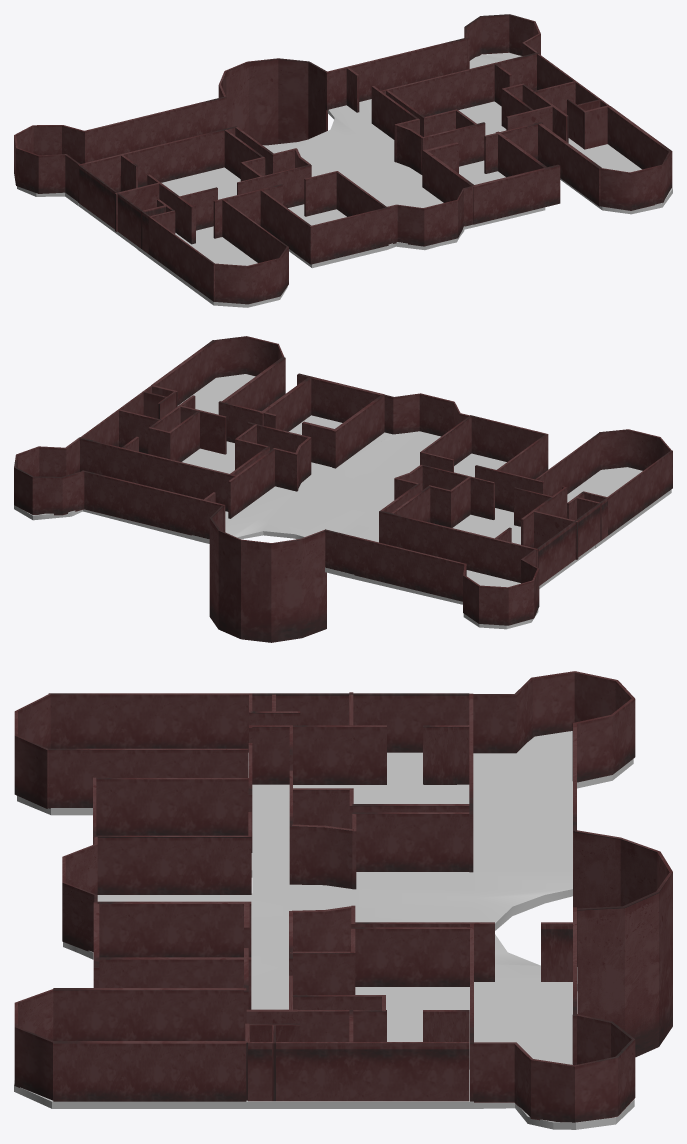
Rendered from Mansion_Floor_2ND_V2.fbx.
The picture shows the model from 3 angles, top to bottom: view 1: azimuth 30°, elevation 25°; view 2: azimuth 150°, elevation 25°; view 3: azimuth 270°, elevation 25°; orthographic projection. The views are drawn at different scales.
Visible parts, largest first — view 1: pCube131, polySurface206, polySurface190, polySurface187, polySurface204, polySurface191, polySurface228, polySurface175, polySurface300, polySurface165, polySurface153, polySurface162 (+34 smaller); view 2: pCube131, polySurface206, polySurface190, polySurface191, polySurface187, polySurface228, polySurface290, polySurface204, polySurface300, polySurface165, polySurface299, polySurface162 (+31 smaller); view 3: pCube131, polySurface206, polySurface300, polySurface301, polySurface290, polySurface204, polySurface291, polySurface174, polySurface167, polySurface217, polySurface170, polySurface154 (+24 smaller).
Part boxes in pixels (bbox=[...]): pCube131: bbox=[17, 52, 672, 307]; polySurface206: bbox=[218, 58, 327, 145]; polySurface190: bbox=[84, 96, 226, 162]; polySurface187: bbox=[325, 37, 469, 110]; polySurface204: bbox=[14, 125, 85, 201]; polySurface191: bbox=[78, 126, 237, 202]; polySurface228: bbox=[381, 52, 538, 116]; polySurface175: bbox=[473, 164, 560, 224]; polySurface300: bbox=[148, 197, 214, 301]; polySurface165: bbox=[387, 186, 473, 246]; polySurface153: bbox=[309, 207, 388, 264]; polySurface162: bbox=[213, 246, 288, 304]; pCube131: bbox=[14, 374, 671, 629]; polySurface206: bbox=[209, 506, 326, 642]; polySurface190: bbox=[324, 529, 466, 601]; polySurface191: bbox=[379, 510, 538, 582]; polySurface187: bbox=[82, 470, 225, 539]; polySurface228: bbox=[79, 437, 236, 511]; polySurface290: bbox=[14, 438, 84, 515]; polySurface204: bbox=[463, 549, 539, 625]; polySurface300: bbox=[538, 450, 672, 567]; polySurface165: bbox=[384, 393, 469, 436]; polySurface299: bbox=[537, 498, 607, 585]; polySurface162: bbox=[599, 429, 672, 488]; pCube131: bbox=[14, 731, 634, 1129]; polySurface206: bbox=[573, 830, 672, 1057]; polySurface300: bbox=[48, 693, 292, 784]; polySurface301: bbox=[248, 1042, 469, 1101]; polySurface290: bbox=[473, 1014, 635, 1122]; polySurface204: bbox=[473, 671, 635, 782]; polySurface291: bbox=[53, 1041, 246, 1101]; polySurface174: bbox=[53, 988, 246, 1040]; polySurface167: bbox=[96, 835, 251, 894]; polySurface217: bbox=[96, 778, 248, 835]; polySurface170: bbox=[97, 901, 251, 957]; polySurface154: bbox=[48, 748, 248, 808].
Size of the model in its own units: 5941 by 4179 by 1091.
